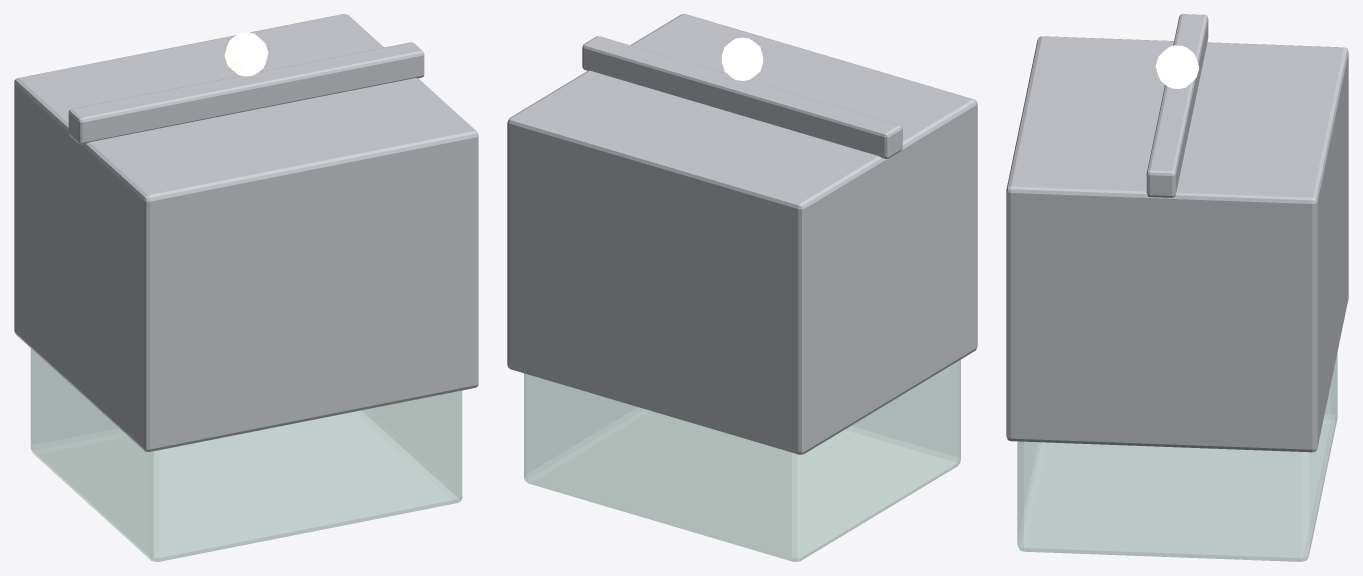
File: greenhouse_preview_01.glb
The picture shows the model from 3 angles, left to right: view 1: azimuth 30°, elevation 25°; view 2: azimuth 150°, elevation 25°; view 3: azimuth 270°, elevation 25°; orthographic projection. The views are drawn at different scales.
Visible parts, largest first — view 1: ENV_greenhouse_preview_01_Frame, ENV_greenhouse_preview_01, ENV_greenhouse_preview_01_Ridge, ENV_greenhouse_preview_01_PreviewBeacon; view 2: ENV_greenhouse_preview_01_Frame, ENV_greenhouse_preview_01, ENV_greenhouse_preview_01_Ridge, ENV_greenhouse_preview_01_PreviewBeacon; view 3: ENV_greenhouse_preview_01_Frame, ENV_greenhouse_preview_01, ENV_greenhouse_preview_01_Ridge, ENV_greenhouse_preview_01_PreviewBeacon.
Part boxes in pixels (bbox=[...]): ENV_greenhouse_preview_01_Frame: bbox=[14, 14, 478, 451]; ENV_greenhouse_preview_01: bbox=[30, 348, 462, 561]; ENV_greenhouse_preview_01_Ridge: bbox=[68, 42, 424, 144]; ENV_greenhouse_preview_01_PreviewBeacon: bbox=[224, 32, 268, 76]; ENV_greenhouse_preview_01_Frame: bbox=[507, 14, 977, 454]; ENV_greenhouse_preview_01: bbox=[524, 360, 960, 561]; ENV_greenhouse_preview_01_Ridge: bbox=[582, 36, 902, 158]; ENV_greenhouse_preview_01_PreviewBeacon: bbox=[721, 37, 763, 80]; ENV_greenhouse_preview_01_Frame: bbox=[1006, 36, 1348, 452]; ENV_greenhouse_preview_01: bbox=[1017, 352, 1337, 561]; ENV_greenhouse_preview_01_Ridge: bbox=[1146, 14, 1208, 197]; ENV_greenhouse_preview_01_PreviewBeacon: bbox=[1155, 45, 1199, 88].
Bounding box in the file's own units: 3.2 × 3.98 × 2.8.
